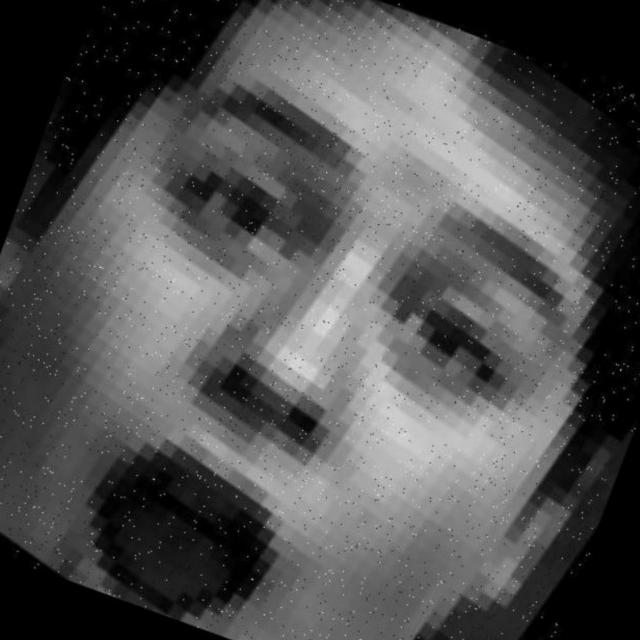Surprised: (33, 39, 614, 640)
